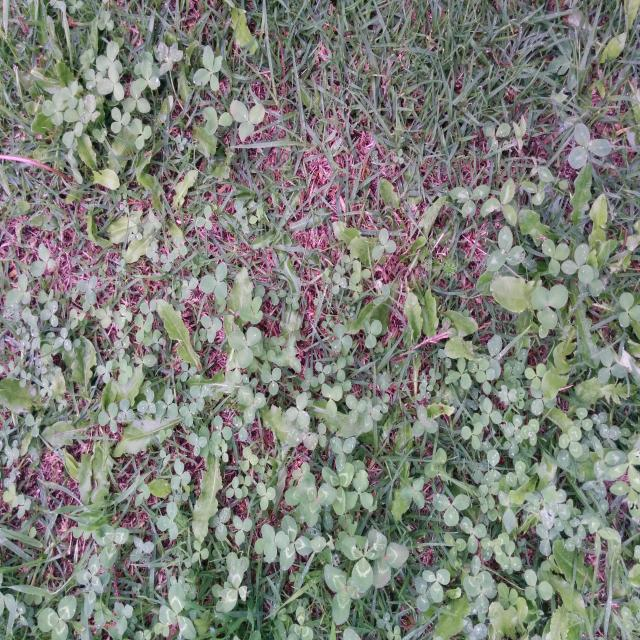Four Leaf Clover: (193, 45, 223, 91)
